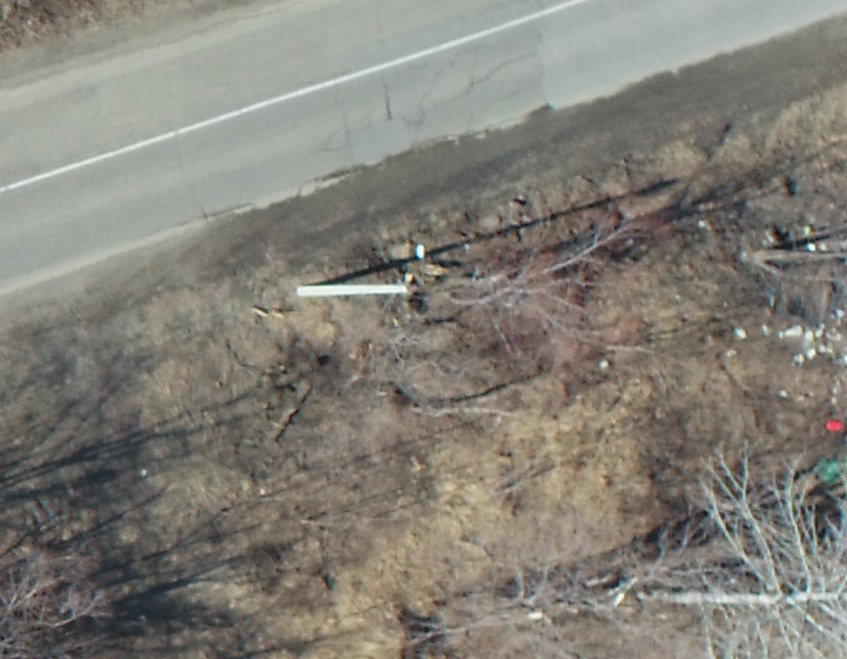opora: (292, 259, 434, 308)
